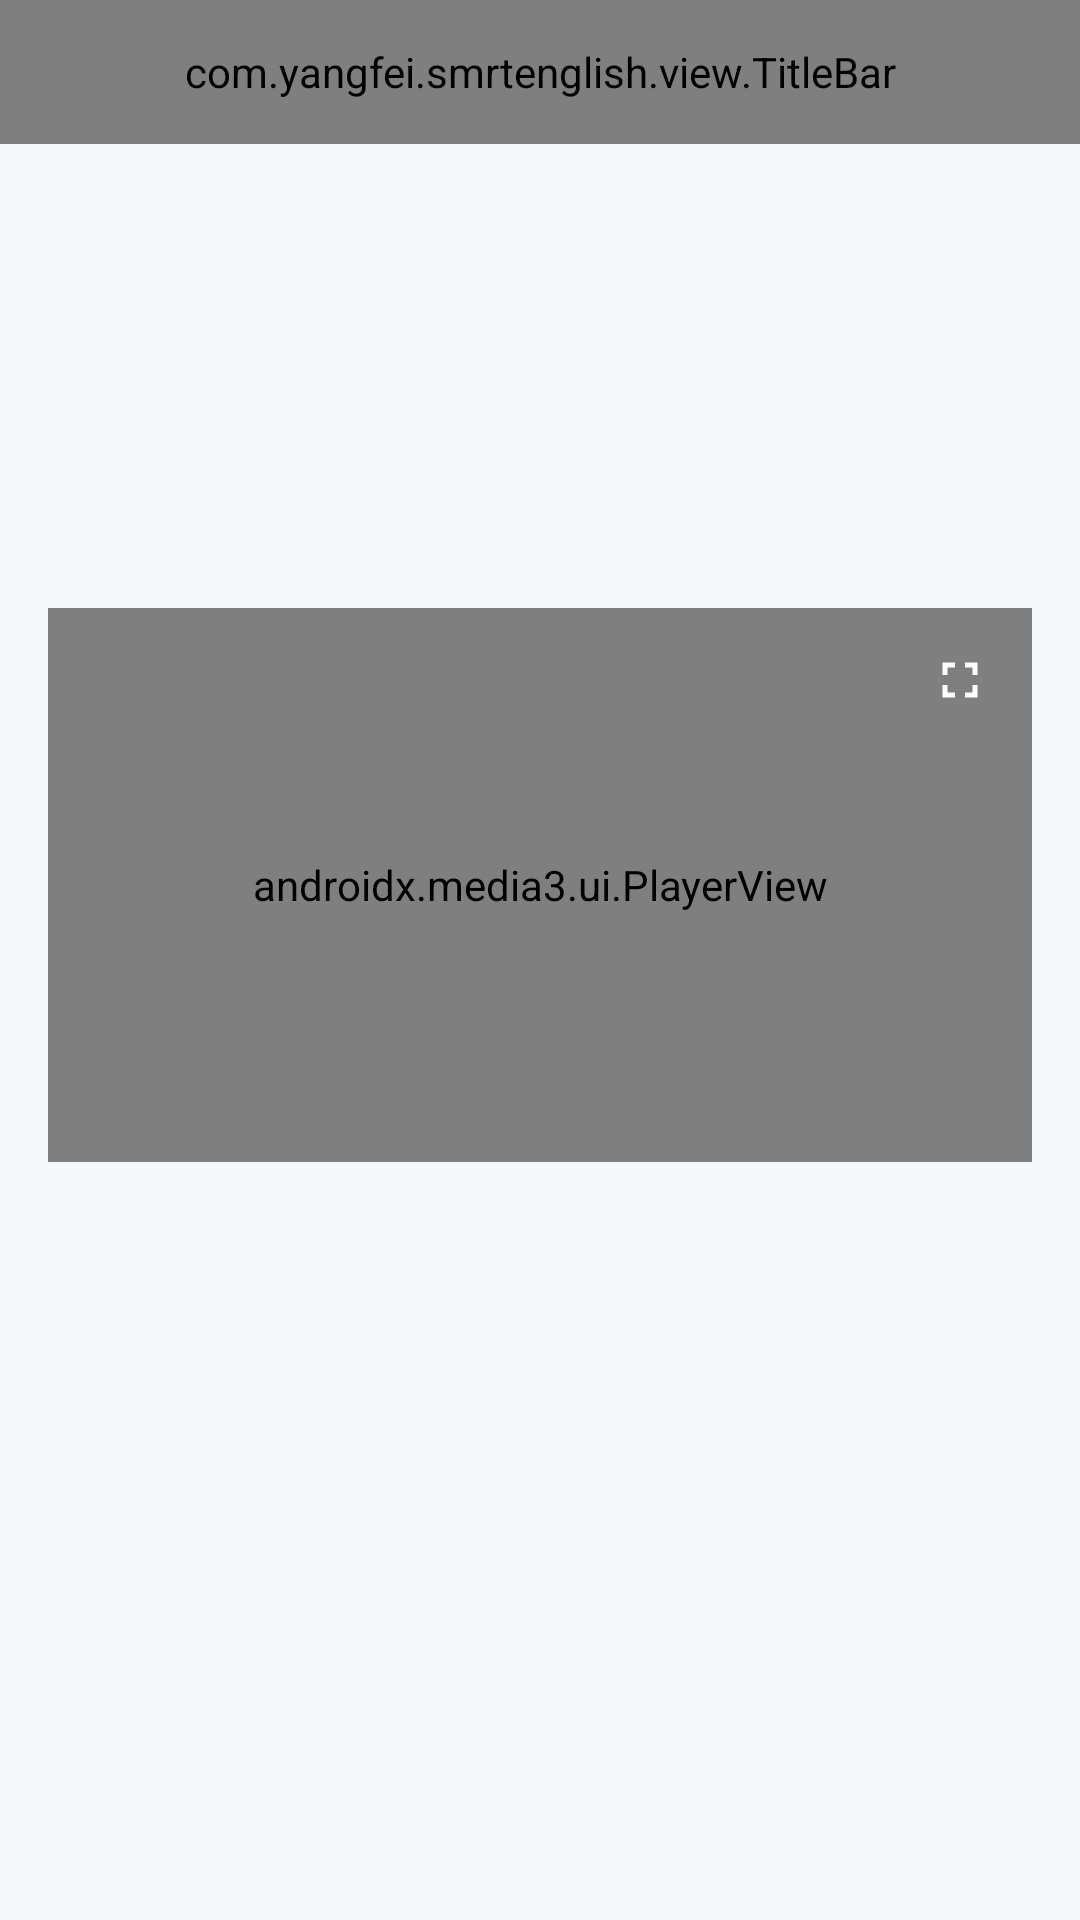

Locate icon controls on the screen. Image size 1080px×1920px, boxes as box(x1, y1, x2, y2).
fullscreen: box(942, 662, 978, 698)
